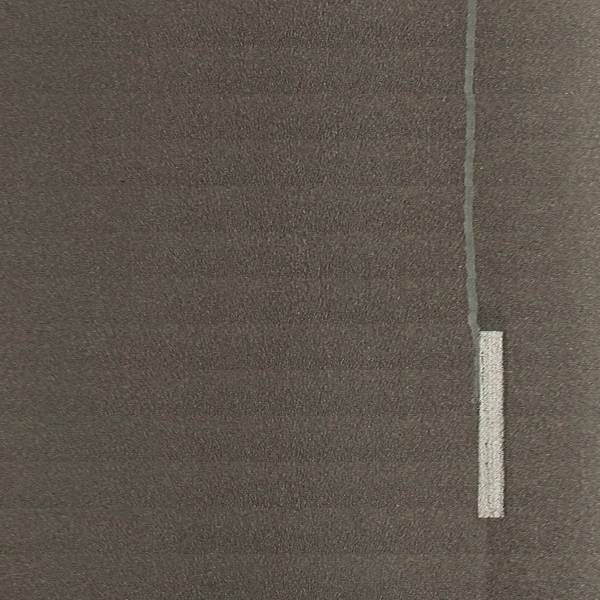road_damage: (464, 1, 480, 338)
